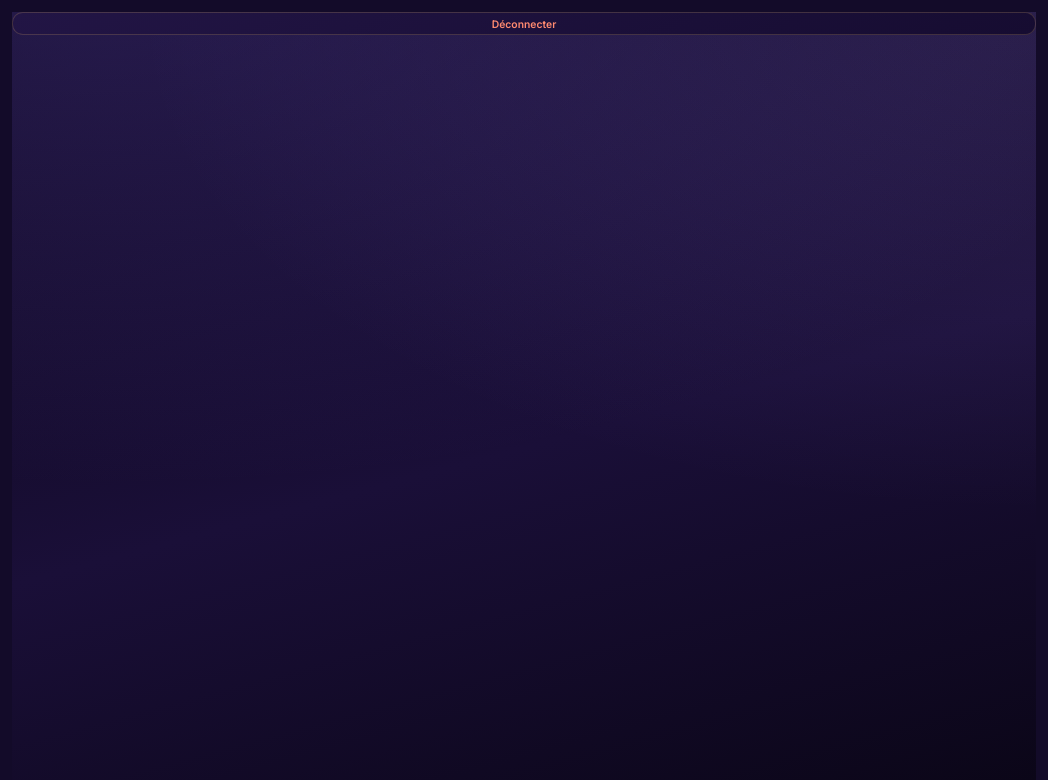
Test: BoutonDeconnecterAgenda › affiche l’erreur du serveur sans prétendre avoir réussi
Click the button "Déconnecter". click: click(524, 24)
box: [12, 12, 1036, 35]
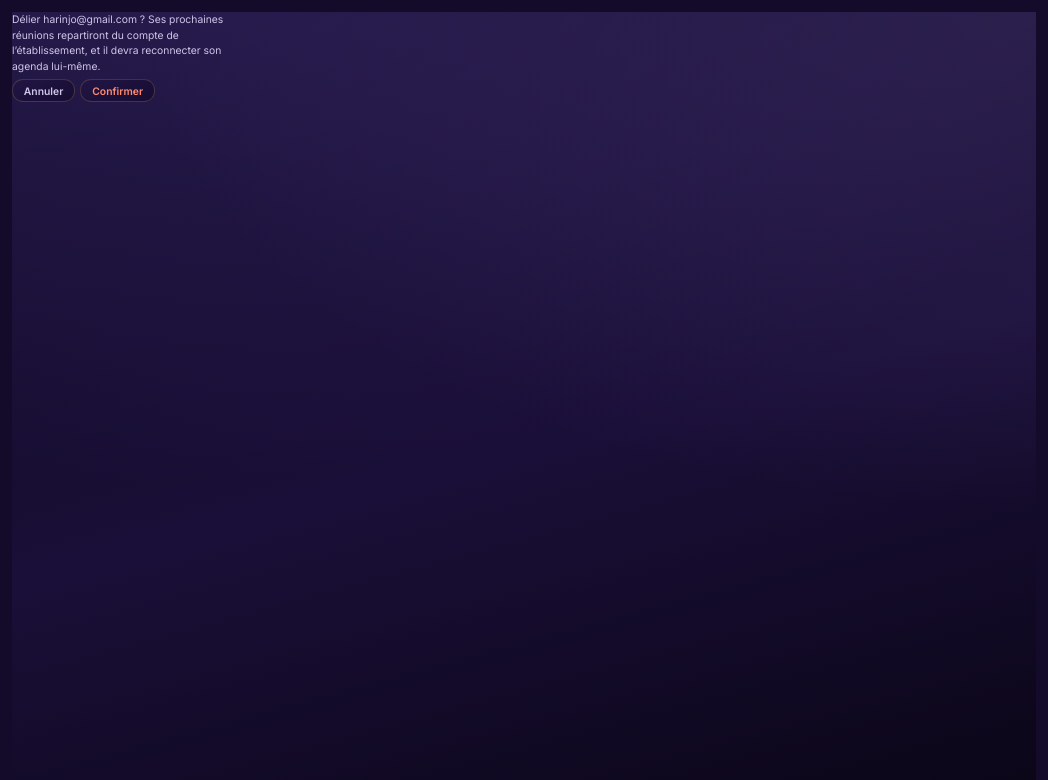
Click the button "Confirmer". click: click(118, 91)
box: [80, 80, 155, 102]
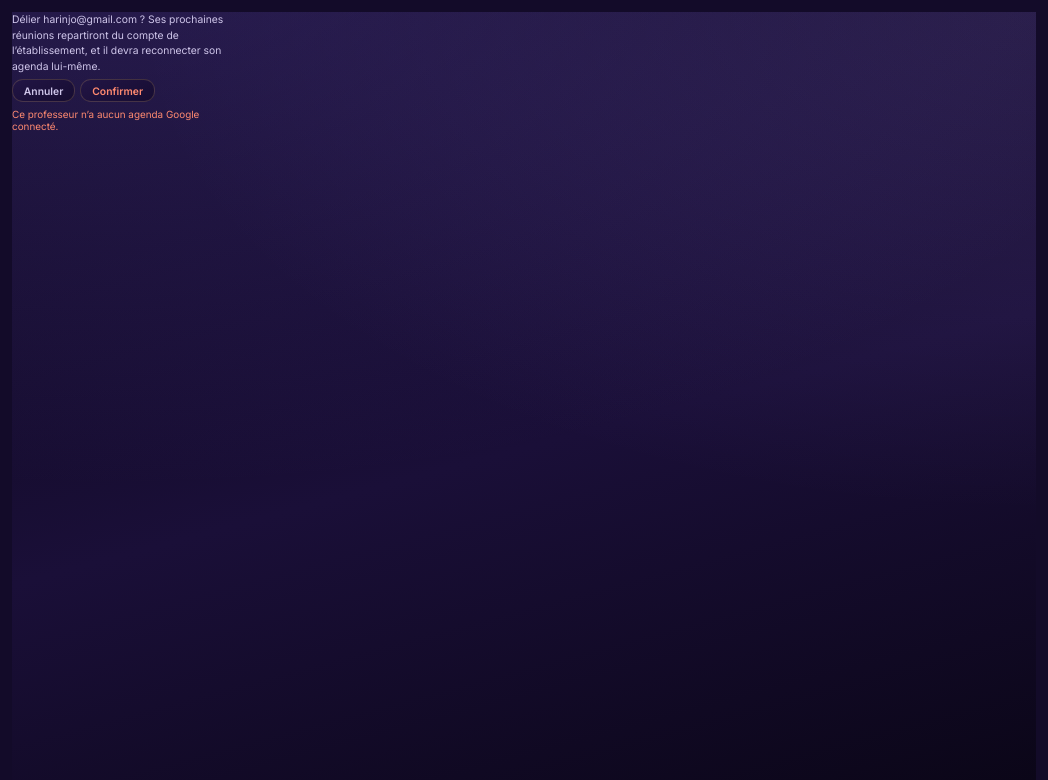
Check: the text "Ce professeur n’a aucun agenda Google connecté." is shown, box [12, 108, 199, 132]
